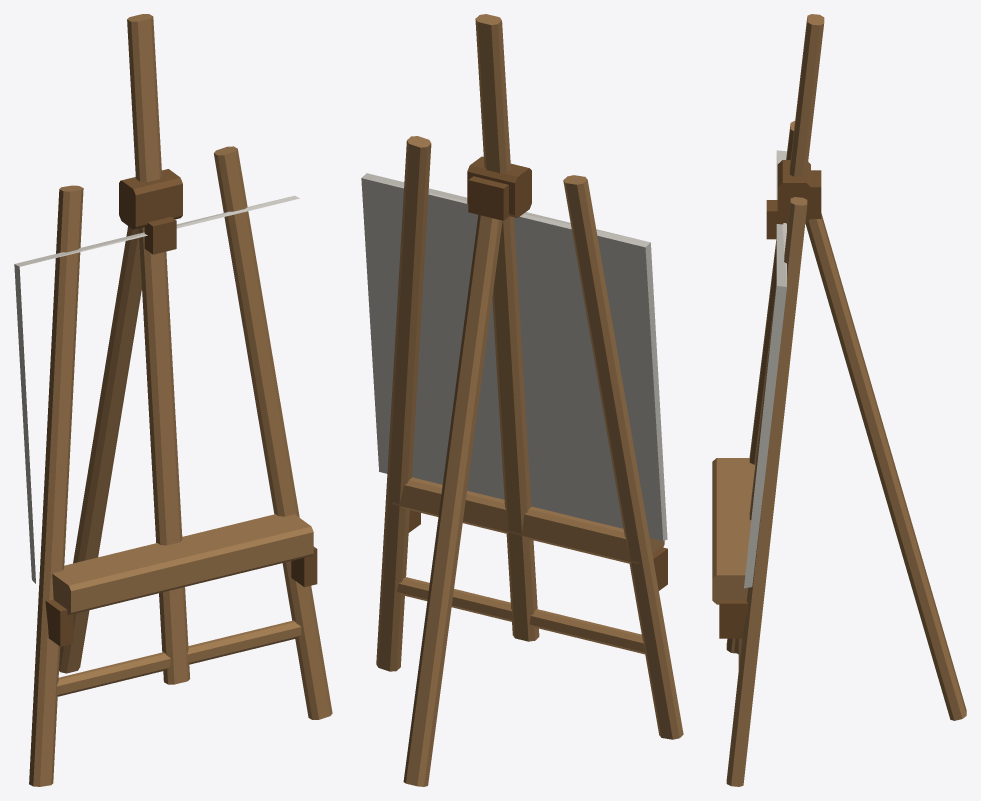
File: easel.glb
3 views of the same model, side by side, from view 1: azimuth 30°, elevation 25°; view 2: azimuth 150°, elevation 25°; view 3: azimuth 270°, elevation 25° (orthographic). The views are drawn at different scales.
Visible parts, largest first — view 1: frame, carriage-mesh, board-mesh; view 2: frame, board-mesh, carriage-mesh; view 3: frame, carriage-mesh, board-mesh.
Boxes of the visible parts, <box> form: frame: <box>29,14,332,786</box>; carriage-mesh: <box>45,169,317,646</box>; board-mesh: <box>14,195,299,583</box>; frame: <box>376,14,683,786</box>; board-mesh: <box>361,173,667,540</box>; carriage-mesh: <box>392,156,667,590</box>; frame: <box>726,14,966,786</box>; carriage-mesh: <box>712,160,810,638</box>; board-mesh: <box>744,150,786,588</box>.
Bounding box in the file's own units: 0.426 × 0.9578 × 0.3163.
